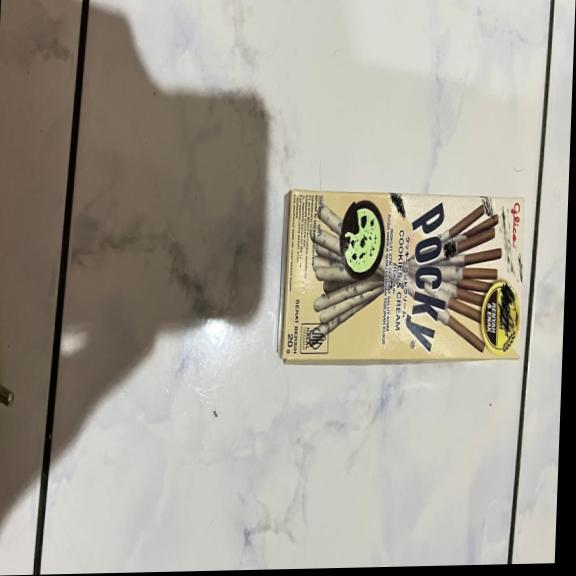Kertas: (286, 193, 526, 364)
